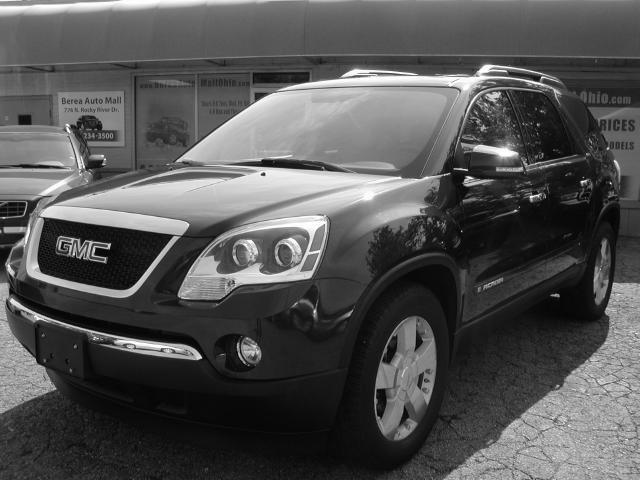car: (1, 35, 640, 470)
